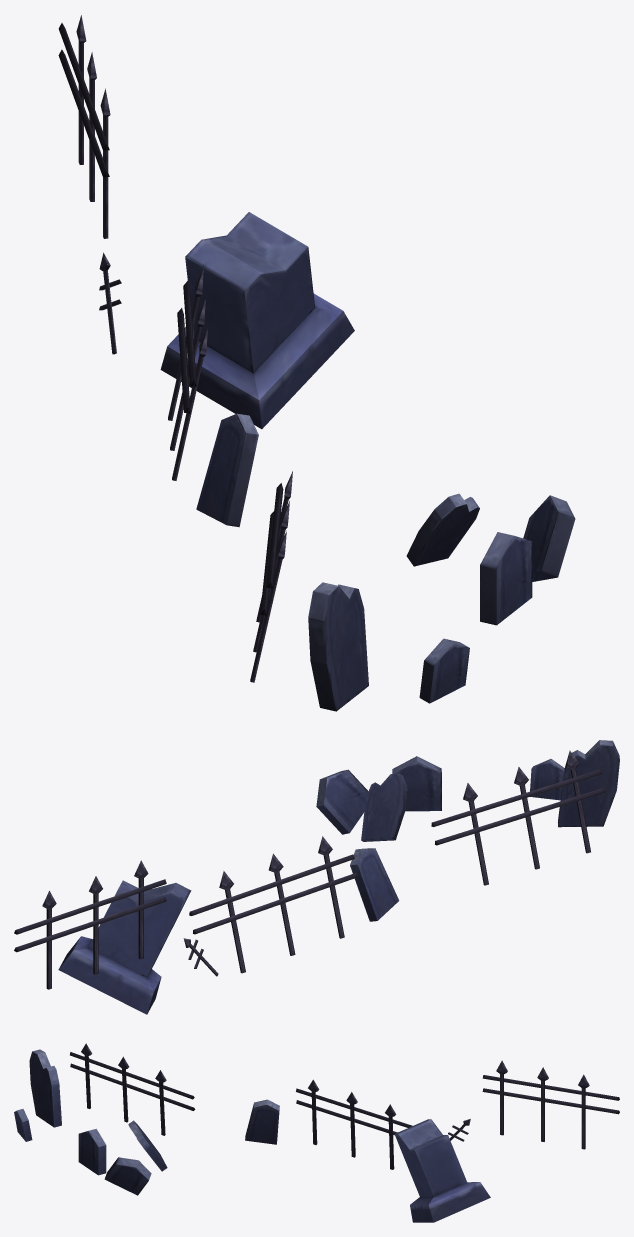
File: Area12_20.fbx
3 renders of one model, top to bottom at view 1: azimuth 30°, elevation 25°; view 2: azimuth 150°, elevation 25°; view 3: azimuth 270°, elevation 25°, orthographic. The views are drawn at different scales.
Visible parts, largest first — view 1: Area12_20; view 2: Area12_20; view 3: Area12_20.
Part boxes in pixels (box(x1,y1,x2,y2)): Area12_20: box(58, 15, 575, 711); Area12_20: box(14, 740, 619, 1014); Area12_20: box(14, 1043, 619, 1222).
Bounding box in the file's own units: 1384 × 847 × 3182.
